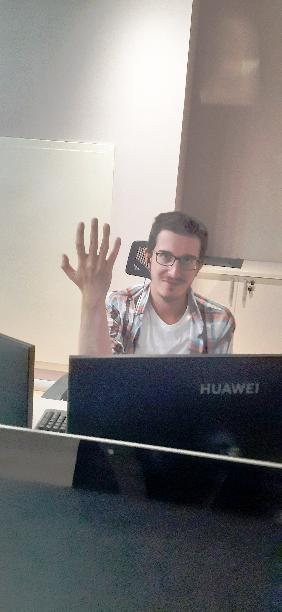Paper: (58, 213, 126, 292)
